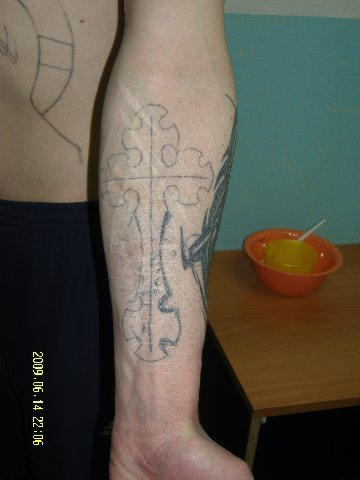tatu9_krest: (108, 100, 206, 363)
